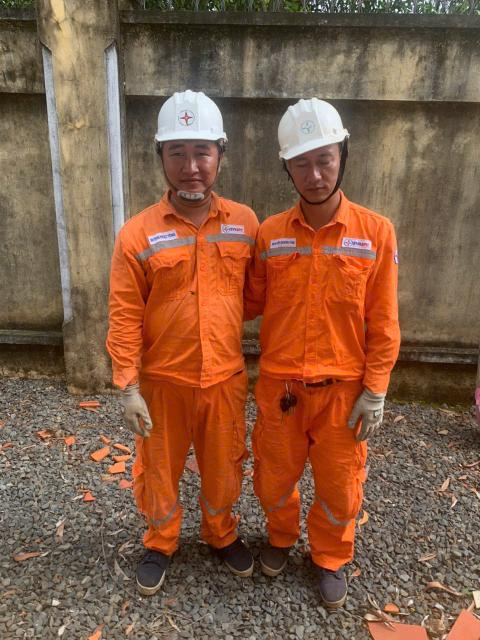gloves: (102, 371, 168, 447), (336, 377, 393, 438)
helmet: (151, 90, 240, 164), (269, 95, 359, 162)
shoes: (131, 519, 186, 599), (199, 524, 258, 578), (315, 538, 353, 608), (251, 525, 293, 579)
